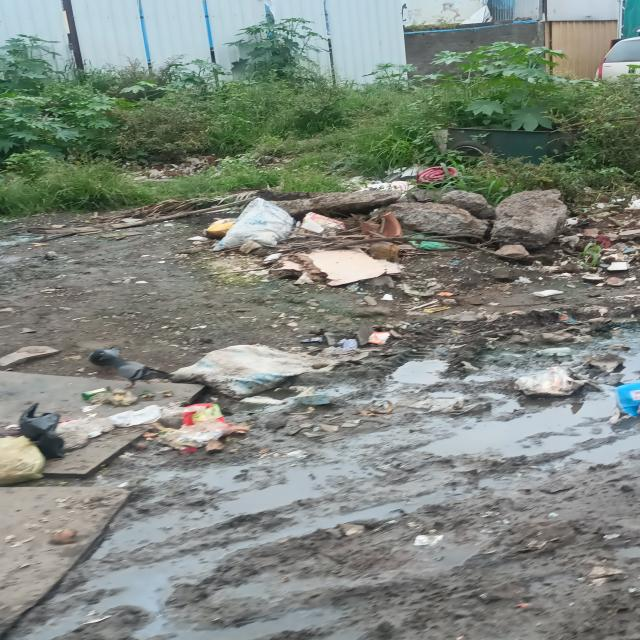garbage: (10, 349, 310, 465), (231, 202, 403, 281), (356, 163, 459, 197)
